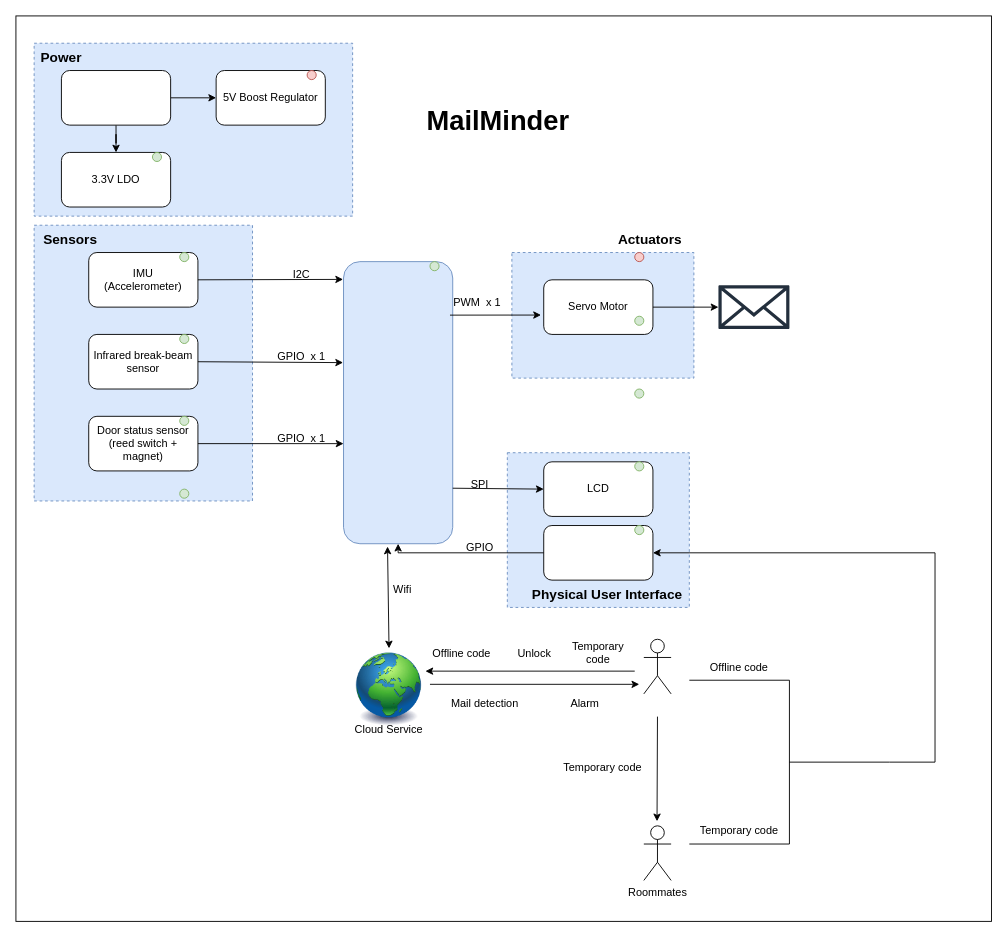
Some shapes in this 1007 by 937 pixel diagram are drawn without their labels. The shapes that lost their labels are listed below. From the top down, each one's centre as x and y in pixels, then its label:
At pixel 116 97: "A Li-Ion battery 3.7v".
At pixel 398 402: "Wireless MCU (SIWG917Y)".
At pixel 598 552: "Keyboard".
At pixel 657 666: "Me".
